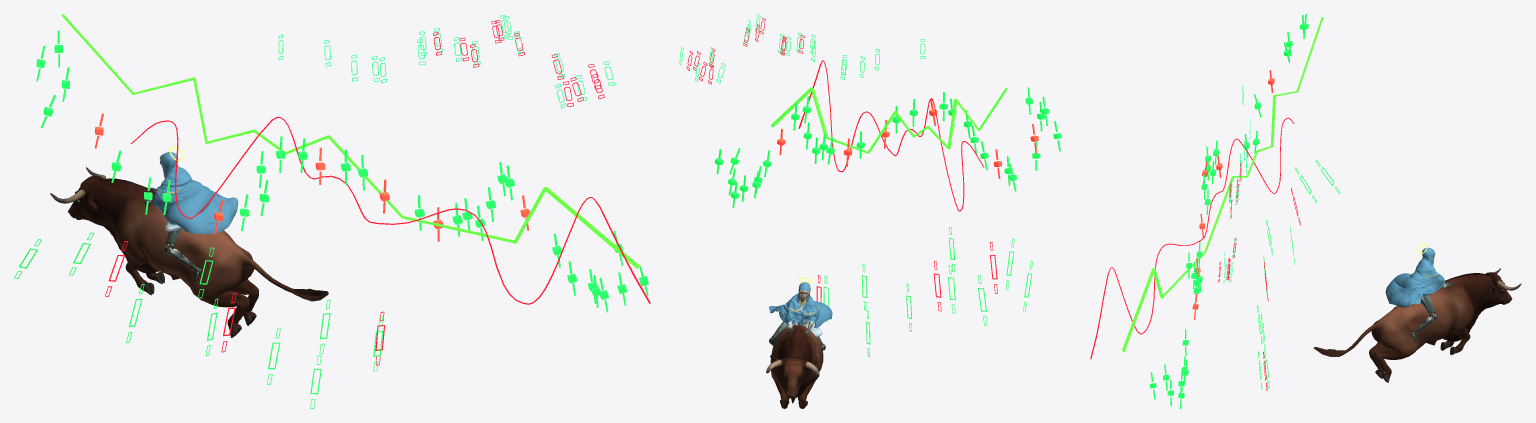
3 renders of one model, left to right at view 1: azimuth 30°, elevation 25°; view 2: azimuth 150°, elevation 25°; view 3: azimuth 270°, elevation 25°, orthographic. The views are drawn at different scales.
Visible parts, largest first — view 1: Object_55.007, pose.001, Line_127, RoundLine_168, Object_55.015, lady.002, Object_55.014; view 2: Object_55.007, Line_127, pose.001, RoundLine_168, Object_55.014, lady.002; view 3: Object_55.007, pose.001, Line_127, RoundLine_168, Object_55.054, lady.002, Object_55.014.
Boxes of the visible parts, x1,y1,x2,y2 form: Object_55.007: (88, 180, 254, 301); pose.001: (153, 152, 238, 233); Line_127: (61, 14, 639, 268); RoundLine_168: (130, 116, 650, 304); Object_55.015: (205, 290, 249, 337); lady.002: (143, 187, 201, 282); Object_55.014: (68, 176, 101, 224); Object_55.007: (770, 324, 823, 401); Line_127: (771, 87, 1007, 153); pose.001: (769, 282, 832, 328); RoundLine_168: (798, 60, 984, 211); Object_55.014: (781, 357, 805, 398); lady.002: (769, 291, 825, 356); Object_55.007: (1371, 275, 1494, 356); pose.001: (1385, 247, 1444, 307); Line_127: (1122, 17, 1323, 351); RoundLine_168: (1090, 117, 1294, 359); Object_55.054: (1374, 348, 1407, 382); lady.002: (1410, 281, 1453, 342); Object_55.014: (1487, 272, 1512, 306).
Bounding box in the file's own units: 6.4 × 4.84 × 6.36.
Materials: 18 (2 with a texture image).
